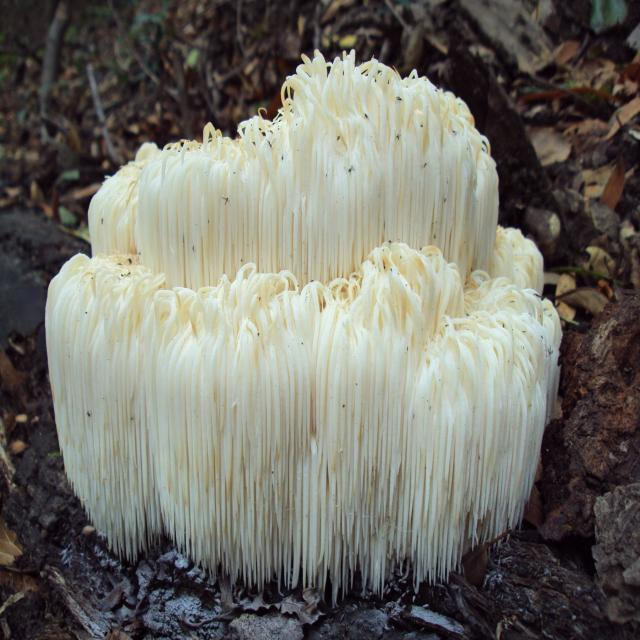Hericium erinaceus: (46, 55, 558, 587)
